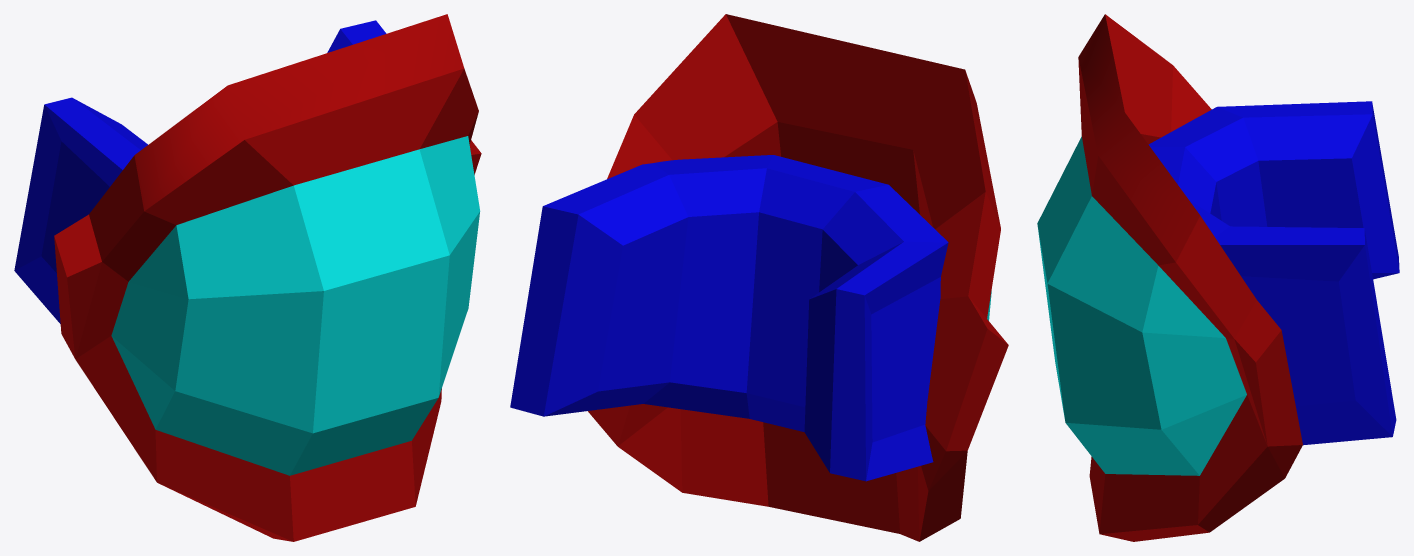
The model's file is Chr_KneeAttachLeft_Static_09.fbx.
3 renders of one model, left to right at view 1: azimuth 30°, elevation 25°; view 2: azimuth 150°, elevation 25°; view 3: azimuth 270°, elevation 25°, orthographic. The views are drawn at different scales.
Visible parts, largest first — view 1: Chr_KneeAttachLeft_09; view 2: Chr_KneeAttachLeft_09; view 3: Chr_KneeAttachLeft_09.
Part boxes in pixels (x1,y1,x2,y2): Chr_KneeAttachLeft_09: (14, 14, 481, 541); Chr_KneeAttachLeft_09: (510, 14, 1008, 541); Chr_KneeAttachLeft_09: (1037, 14, 1399, 541).
Size of the model in its own units: 21.07 by 22.2 by 16.14.
